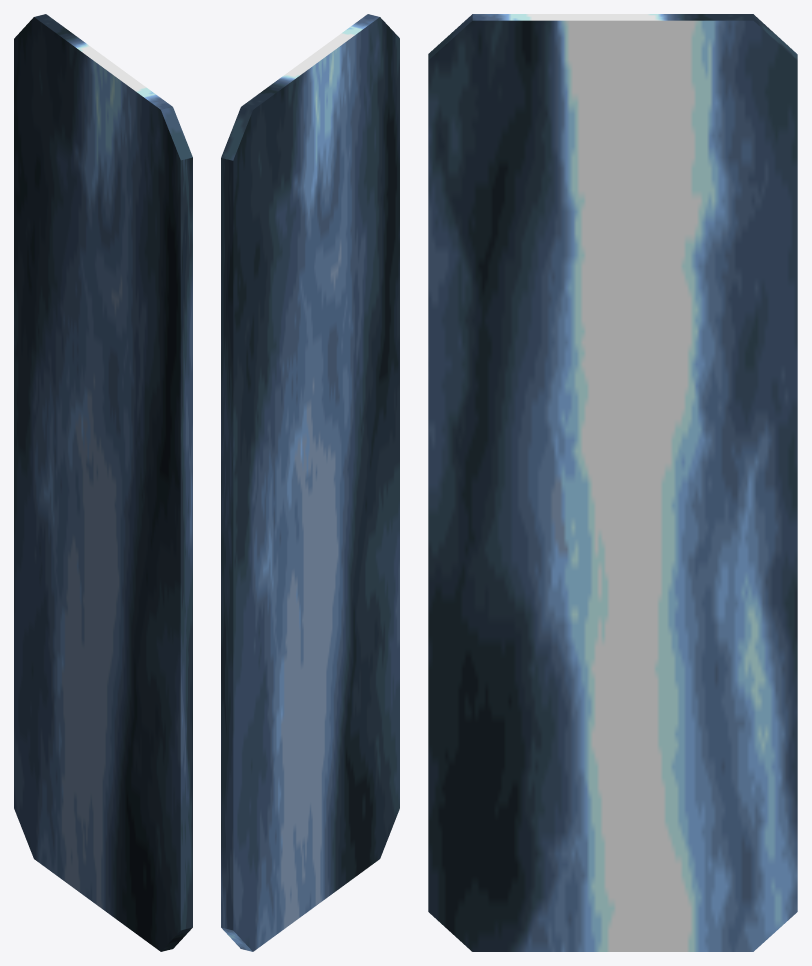
The model's file is gate_mirror.960e29b8.glb.
3 renders of one model, left to right at view 1: azimuth 30°, elevation 25°; view 2: azimuth 150°, elevation 25°; view 3: azimuth 270°, elevation 25°, orthographic. The views are drawn at different scales.
Parts seen in each view (by area): view 1: GatePass; view 2: GatePass; view 3: GatePass.
Part boxes in pixels (bbox=[...]): GatePass: bbox=[14, 14, 192, 951]; GatePass: bbox=[221, 14, 399, 951]; GatePass: bbox=[428, 14, 797, 951].
Bounding box in the file's own units: 0.0842 × 5.57 × 2.
1 material, 1 textured.
